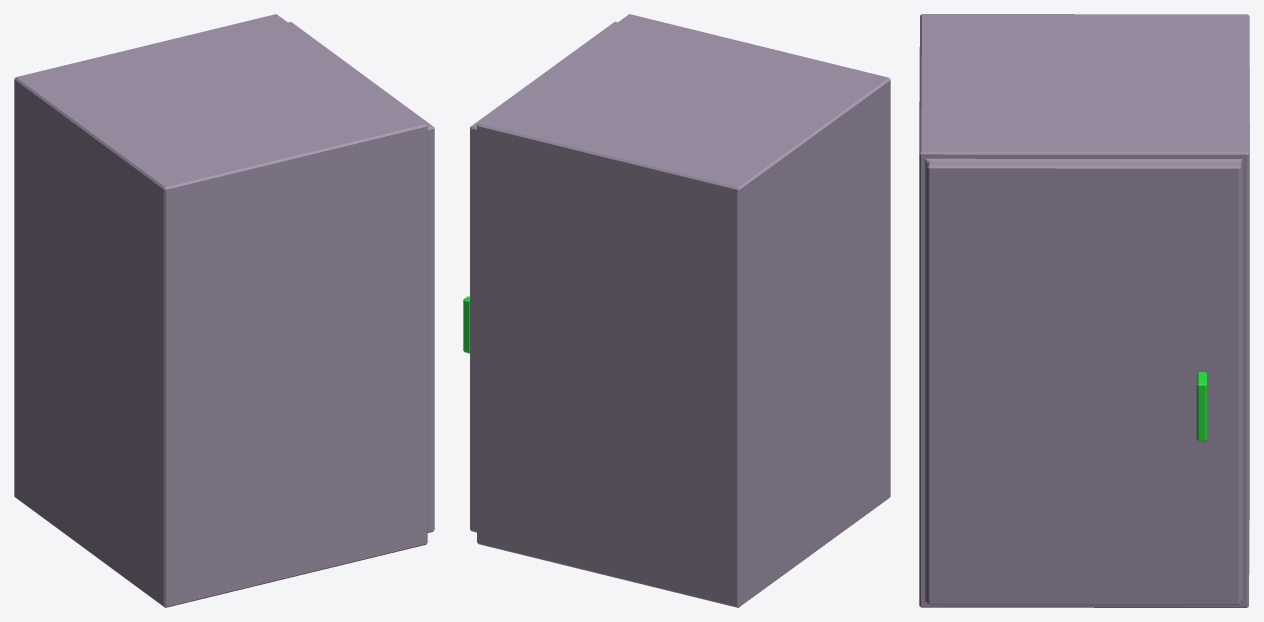
Rendered from Furniture.fbx.
The picture shows the model from 3 angles, left to right: view 1: azimuth 30°, elevation 25°; view 2: azimuth 150°, elevation 25°; view 3: azimuth 270°, elevation 25°; orthographic projection. The views are drawn at different scales.
Visible parts, largest first — view 1: Furniture; view 2: Furniture; view 3: Furniture.
Part boxes in pixels (x1=…): Furniture: x1=14, y1=14, x2=434, y2=607; Furniture: x1=463, y1=14, x2=890, y2=607; Furniture: x1=919, y1=14, x2=1249, y2=607.
Bounding box in the file's own units: 0.903 × 1.22 × 0.8024.
